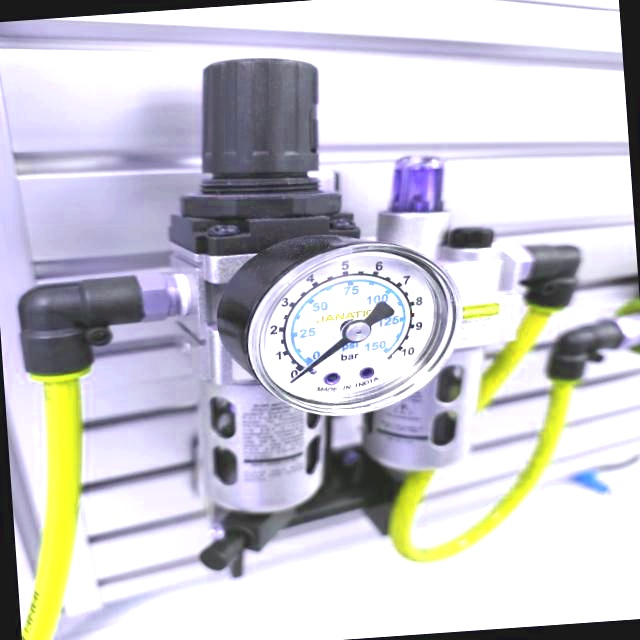FRL unit: (0, 29, 605, 599)
push button: (210, 223, 470, 424)
